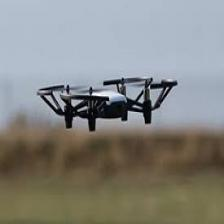drone: (37, 77, 174, 127)
